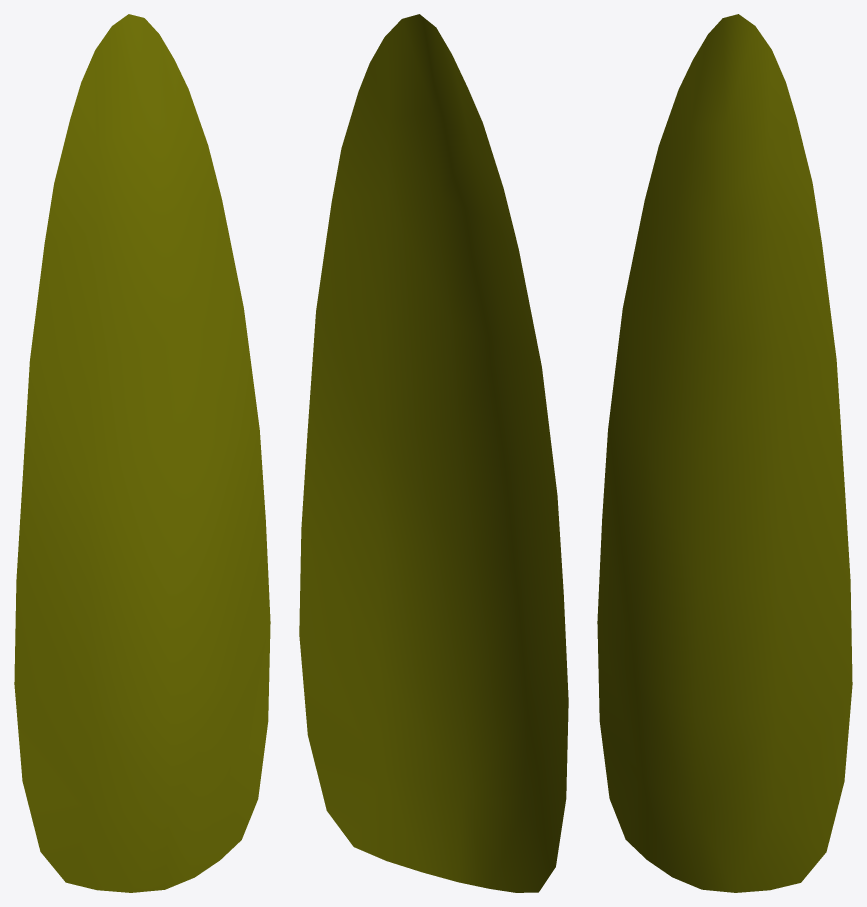
File: MD_nail_point_HandR.Index.fbx
3 renders of one model, left to right at view 1: azimuth 30°, elevation 25°; view 2: azimuth 150°, elevation 25°; view 3: azimuth 330°, elevation 25°, orthographic. The views are drawn at different scales.
Parts seen in each view (by area): view 1: MD_nail_point_HandR.Index; view 2: MD_nail_point_HandR.Index; view 3: MD_nail_point_HandR.Index.
Part boxes in pixels (box(x1,y1,x2,y2)): MD_nail_point_HandR.Index: box(14, 14, 270, 892); MD_nail_point_HandR.Index: box(299, 14, 568, 892); MD_nail_point_HandR.Index: box(597, 14, 852, 892).
Size of the model in its own units: 0.7402 by 2.35 by 0.2227.
